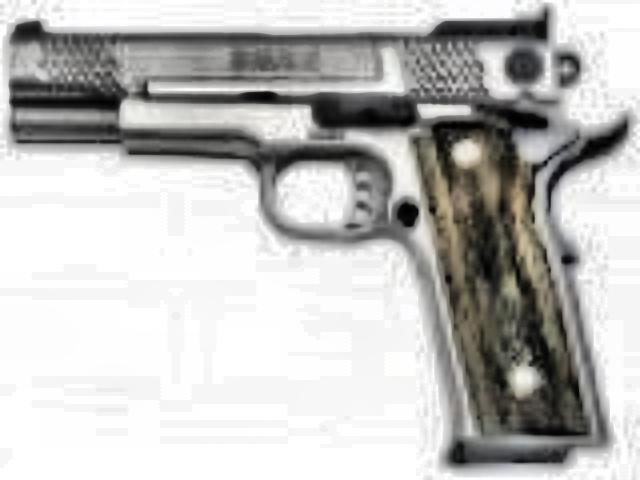pistol: (4, 12, 612, 460)
